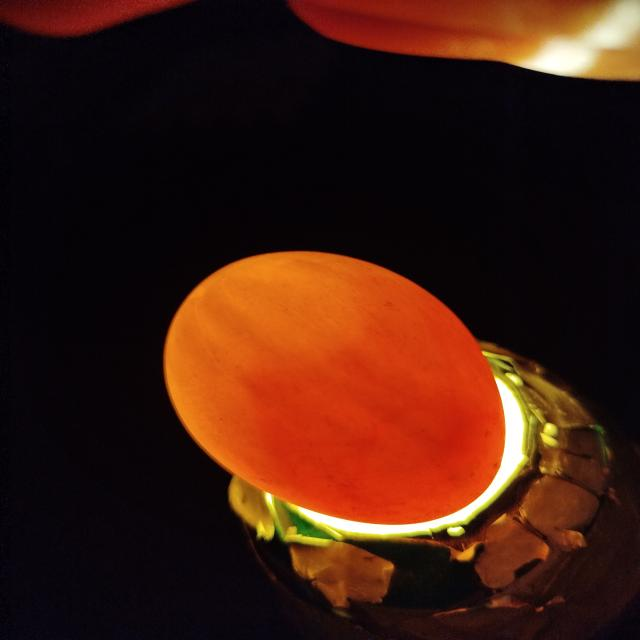Gema Quebrada: (236, 279, 506, 524)
